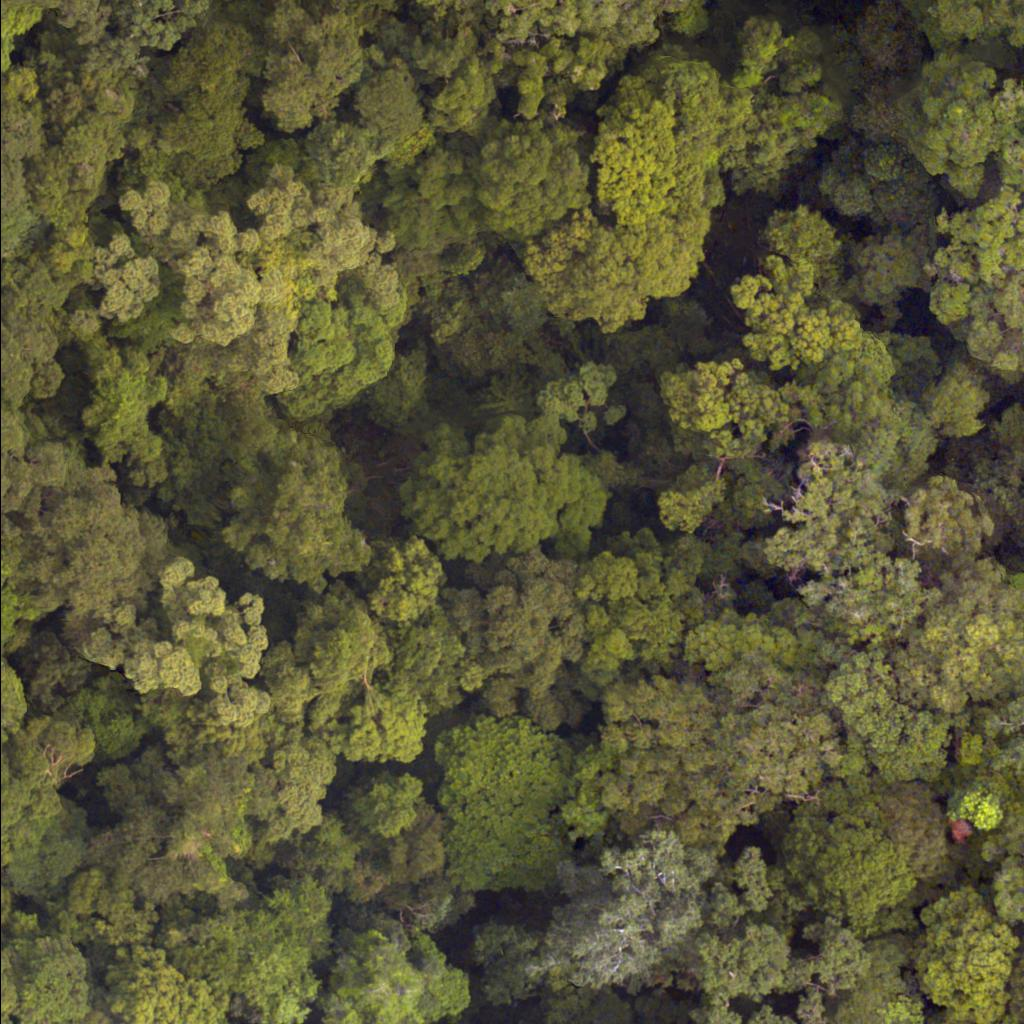crown: (659, 246, 932, 543), (765, 440, 995, 632), (641, 11, 845, 217), (399, 413, 617, 563), (511, 197, 711, 332), (123, 22, 266, 203), (221, 420, 370, 589), (17, 467, 172, 628), (246, 162, 400, 309), (129, 368, 267, 528), (276, 273, 410, 420), (820, 75, 939, 237), (926, 188, 1023, 374), (434, 263, 575, 386), (899, 54, 1014, 203), (591, 70, 677, 231), (260, 0, 367, 129), (475, 117, 591, 235), (389, 229, 492, 356), (943, 410, 1023, 559), (573, 530, 681, 632), (80, 346, 165, 468), (457, 546, 580, 630), (80, 0, 208, 80), (383, 150, 486, 249), (0, 406, 71, 542), (832, 0, 930, 93), (356, 534, 445, 624), (837, 229, 928, 317), (253, 232, 337, 319), (29, 143, 112, 227), (350, 56, 424, 150), (217, 313, 301, 395), (899, 0, 1023, 52), (0, 251, 83, 320), (0, 314, 61, 405), (28, 53, 89, 140), (369, 347, 428, 430), (304, 122, 377, 187), (0, 70, 49, 162), (39, 224, 104, 289), (59, 110, 131, 167), (29, 0, 113, 46), (477, 369, 545, 423), (994, 74, 1023, 190), (0, 195, 44, 266), (0, 0, 42, 73), (77, 72, 141, 118), (0, 148, 26, 218), (346, 0, 397, 35), (297, 0, 341, 18)
